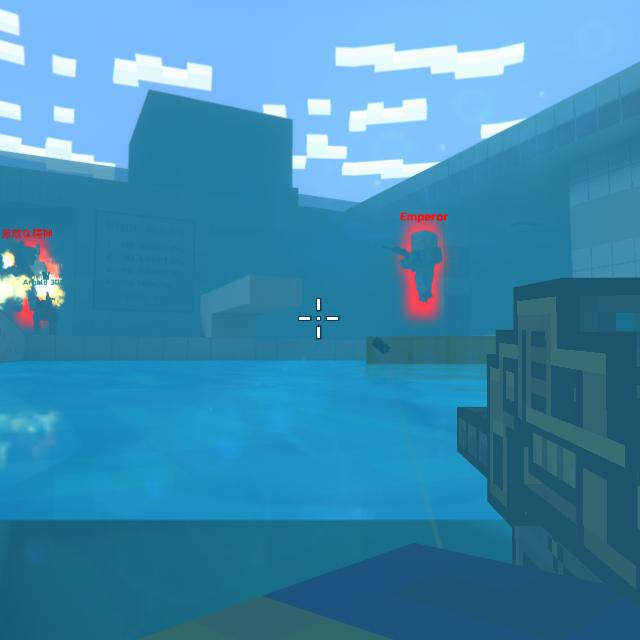Enemy: (401, 229, 444, 302)
